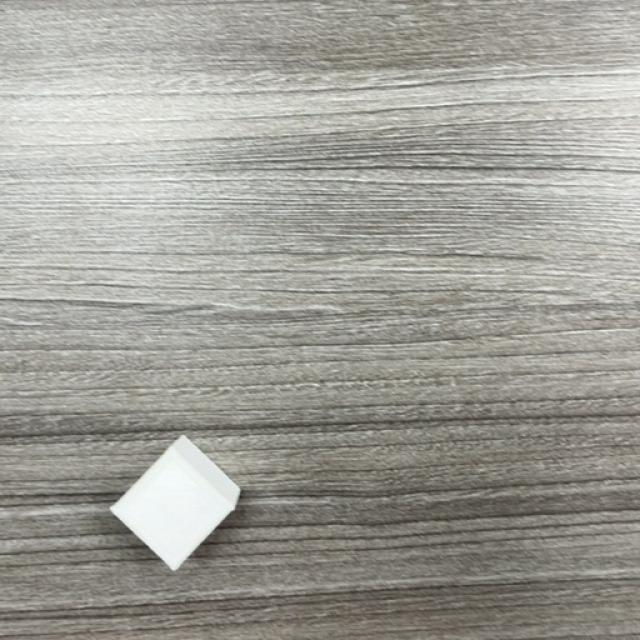Blanco: (109, 436, 242, 574)
